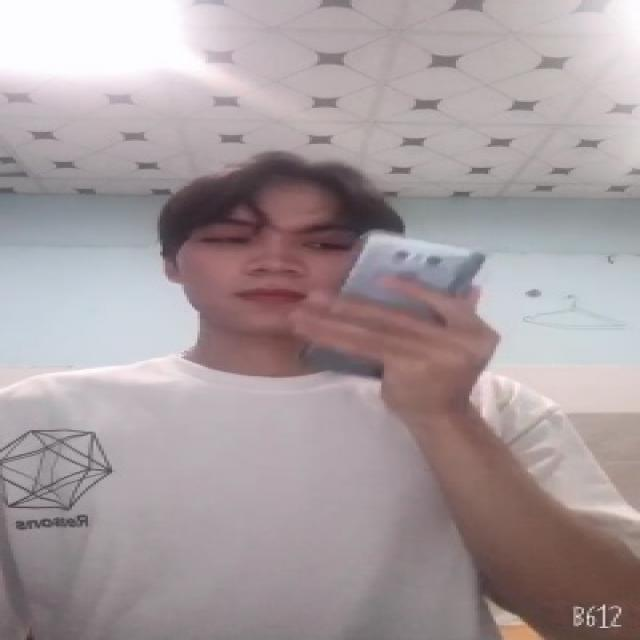Phone: (293, 233, 489, 377)
